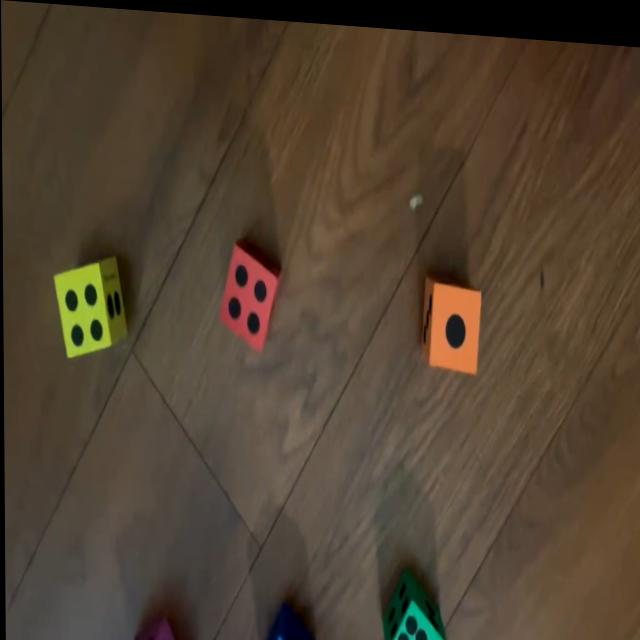cube: (218, 235, 280, 350), (382, 564, 446, 640), (260, 602, 317, 640)
